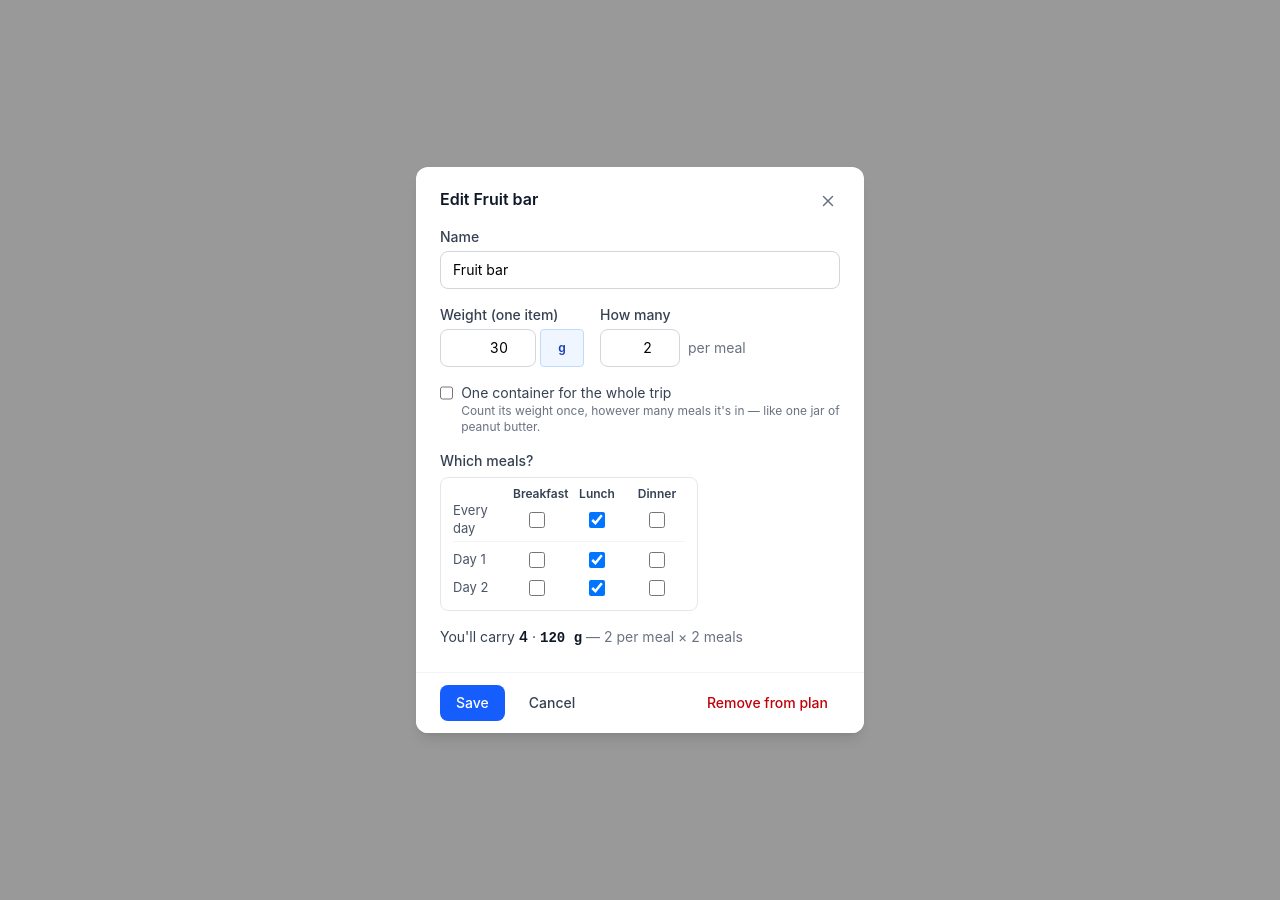
Test: validation and busy › an out-of-range count swaps the summary for a hint instead of lying
Step 1. Replace the text in the number field labelled "How many" with "0" → (640, 348), box 600,329 -> 680,367
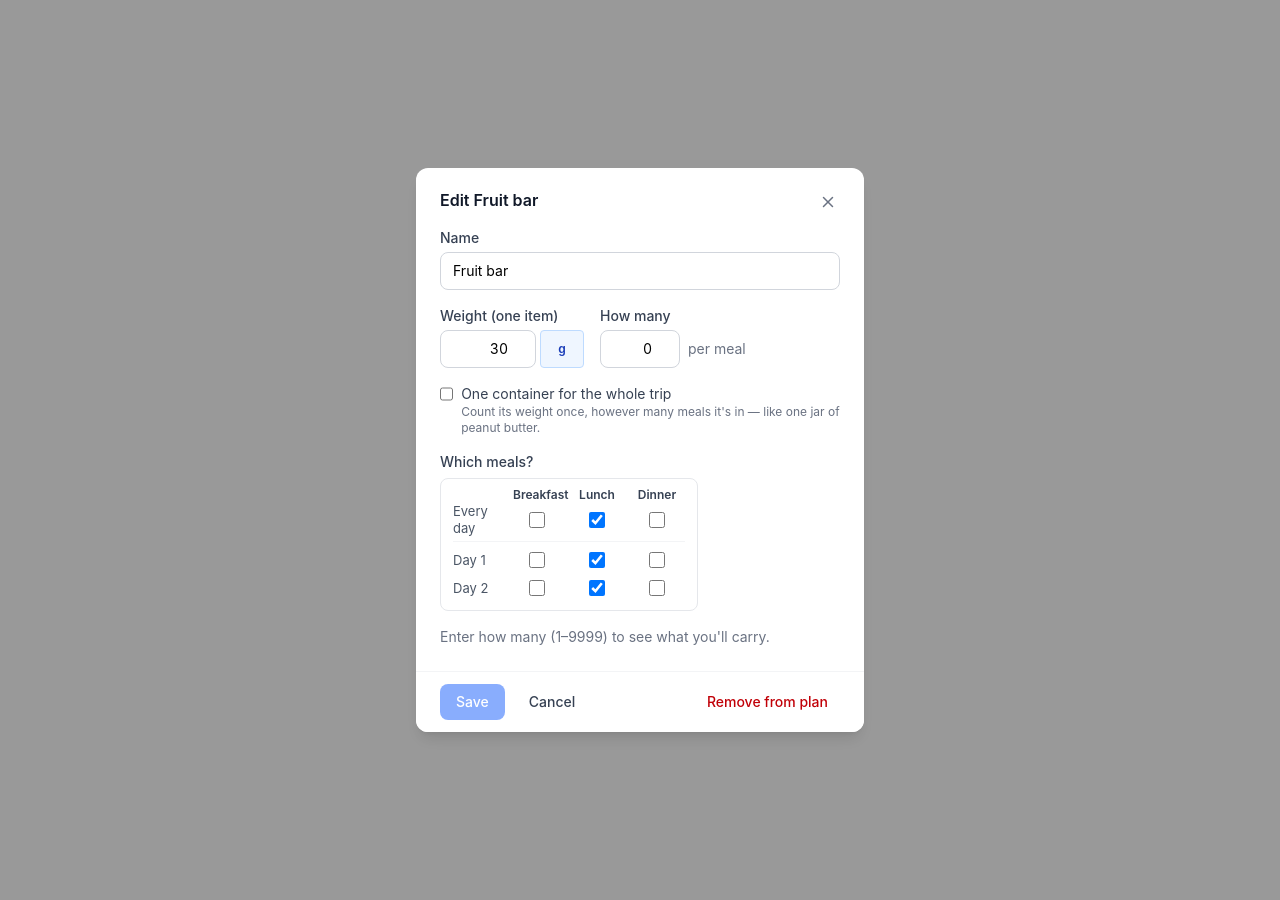
expect the text "Enter how many (1–9999) to see what you'll carry." is shown: met, box 440,628 -> 770,645
